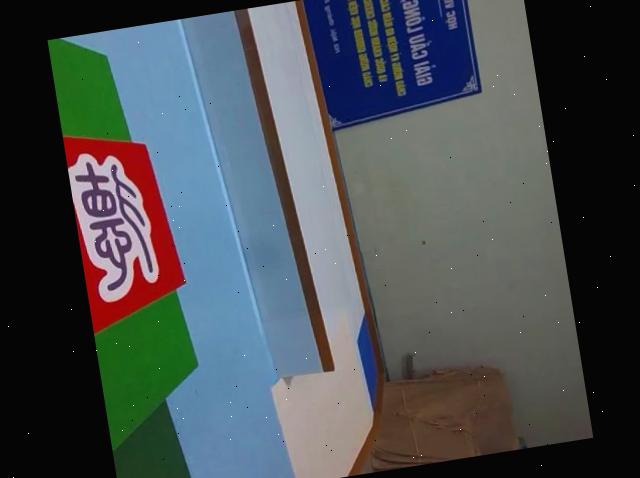R2 Fake: (62, 121, 193, 338)
